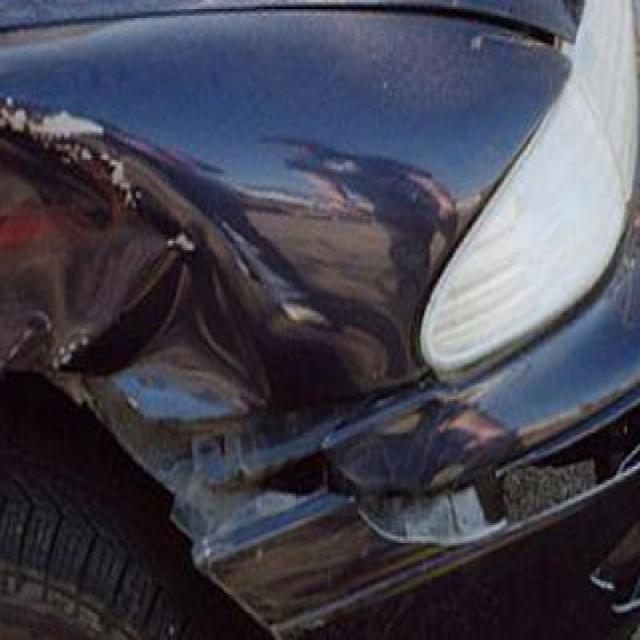dent: (24, 122, 525, 582)
